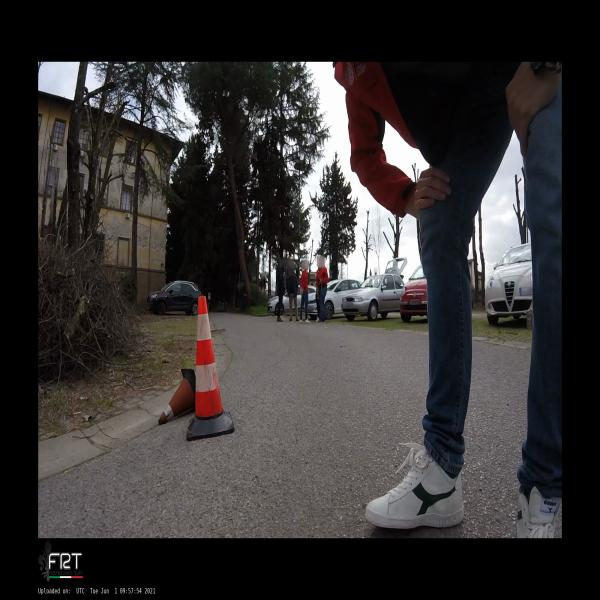large_orange_cone: (187, 296, 235, 440)
unknown_cone: (158, 369, 196, 425)
